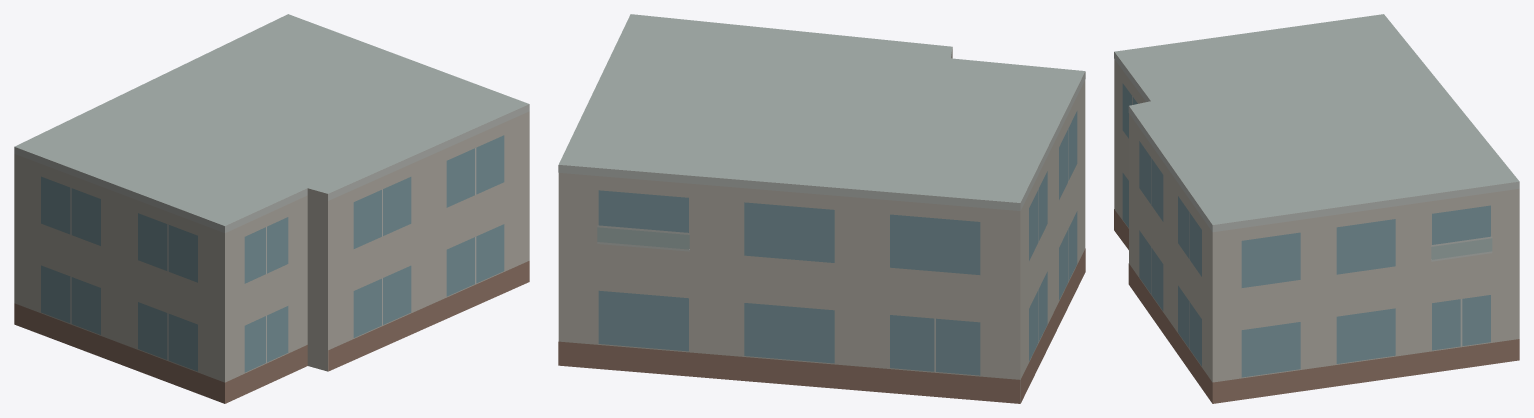
The model's file is survey-upis-32693162.glb.
The picture shows the model from 3 angles, left to right: view 1: azimuth 30°, elevation 25°; view 2: azimuth 150°, elevation 25°; view 3: azimuth 270°, elevation 25°; orthographic projection. The views are drawn at different scales.
Parts seen in each view (by area): view 1: survey-upis-32693162.tmp; view 2: survey-upis-32693162.tmp; view 3: survey-upis-32693162.tmp.
Boxes of the visible parts, box(x1,y1,x2,y2) form: survey-upis-32693162.tmp: box(14, 14, 529, 403); survey-upis-32693162.tmp: box(558, 14, 1085, 403); survey-upis-32693162.tmp: box(1114, 14, 1519, 403).
Bounding box in the file's own units: 15.46 × 6.1 × 12.55.
